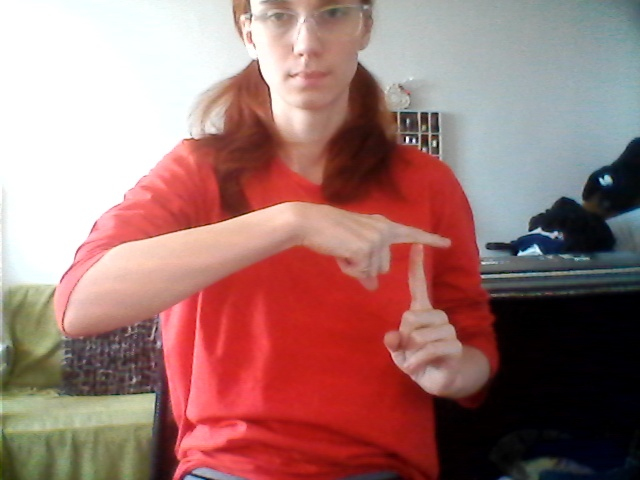t: (309, 198, 468, 407)
